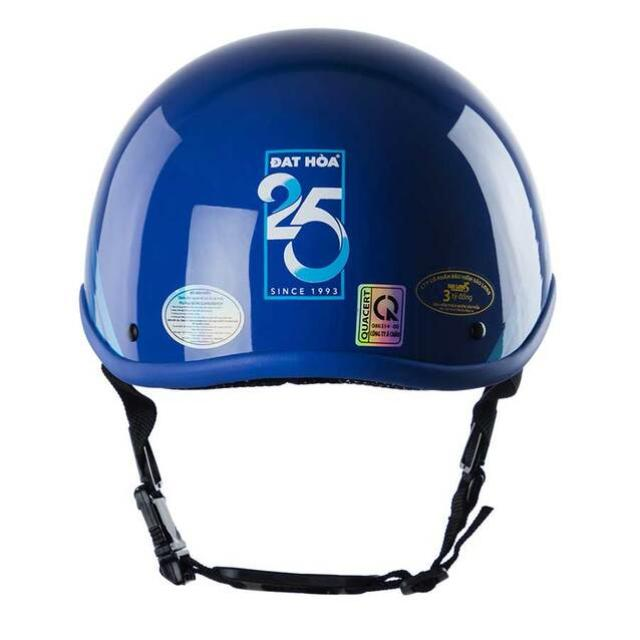Helmet: (76, 25, 558, 607)
